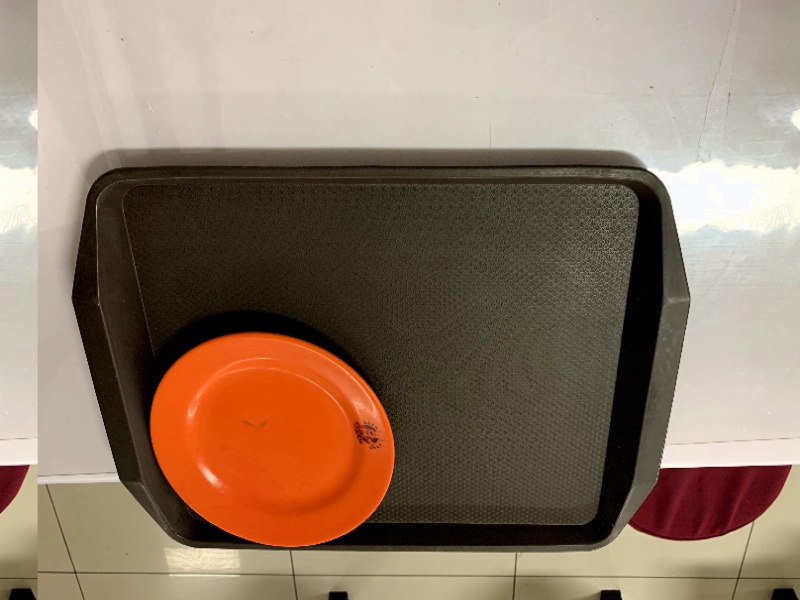dish10: (142, 324, 400, 550)
